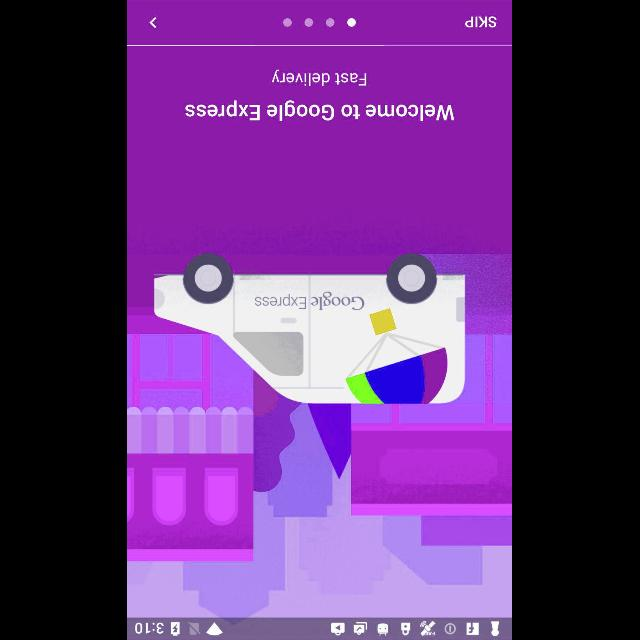icon: (150, 16, 158, 28)
image: (128, 253, 512, 617)
pageindicator: (283, 17, 357, 27)
text: (186, 100, 456, 122), (272, 69, 368, 87), (466, 16, 498, 28)
uppertaskbar: (128, 617, 512, 639)
